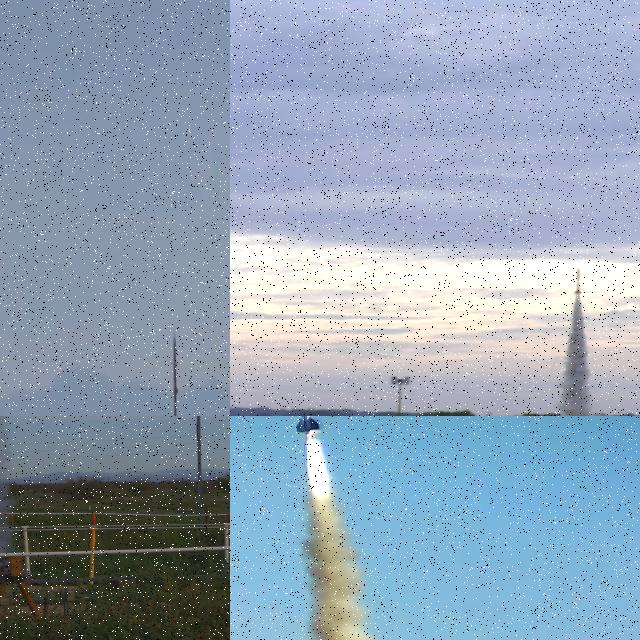Rocket: (173, 331, 179, 416), (289, 416, 319, 432), (574, 268, 582, 294)
